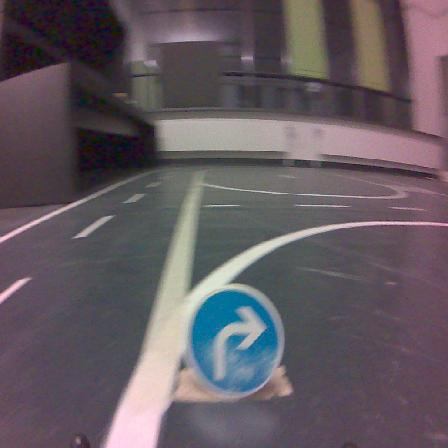RIGHT_TURN: (187, 284, 283, 397)
